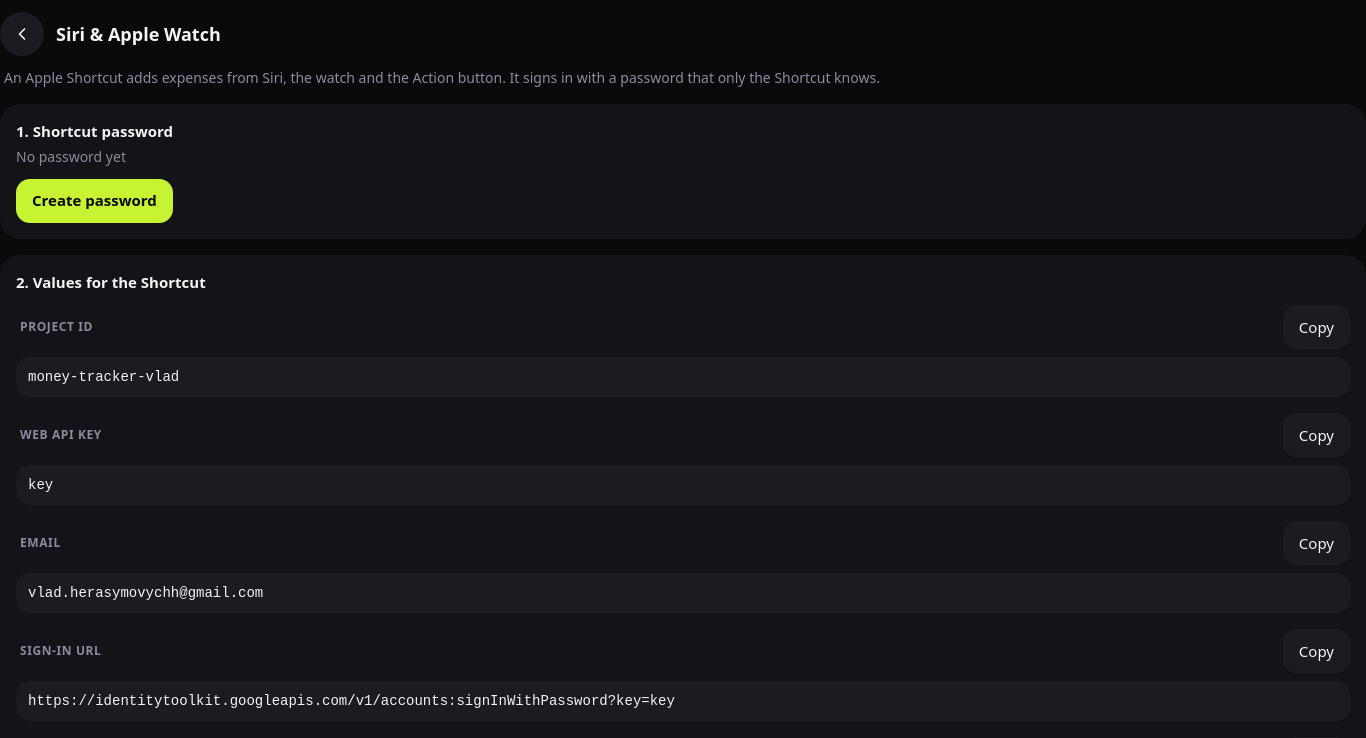
ShortcutPage › 1. Shortcut password › forgets the new password once the page closes
Click the button "Create password" at x=94, y=200, box [16,178,173,222]
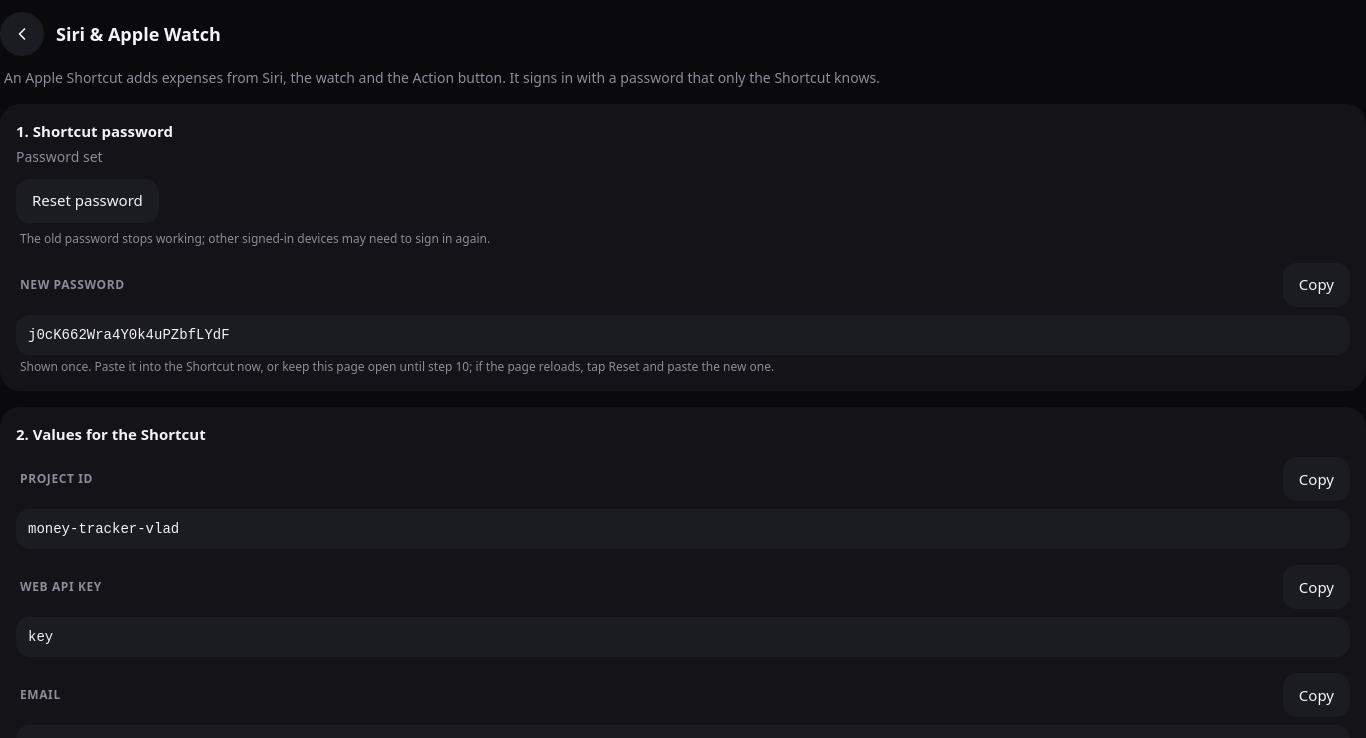
Expected: the element "New password" is shown, [16,262,1350,374]
